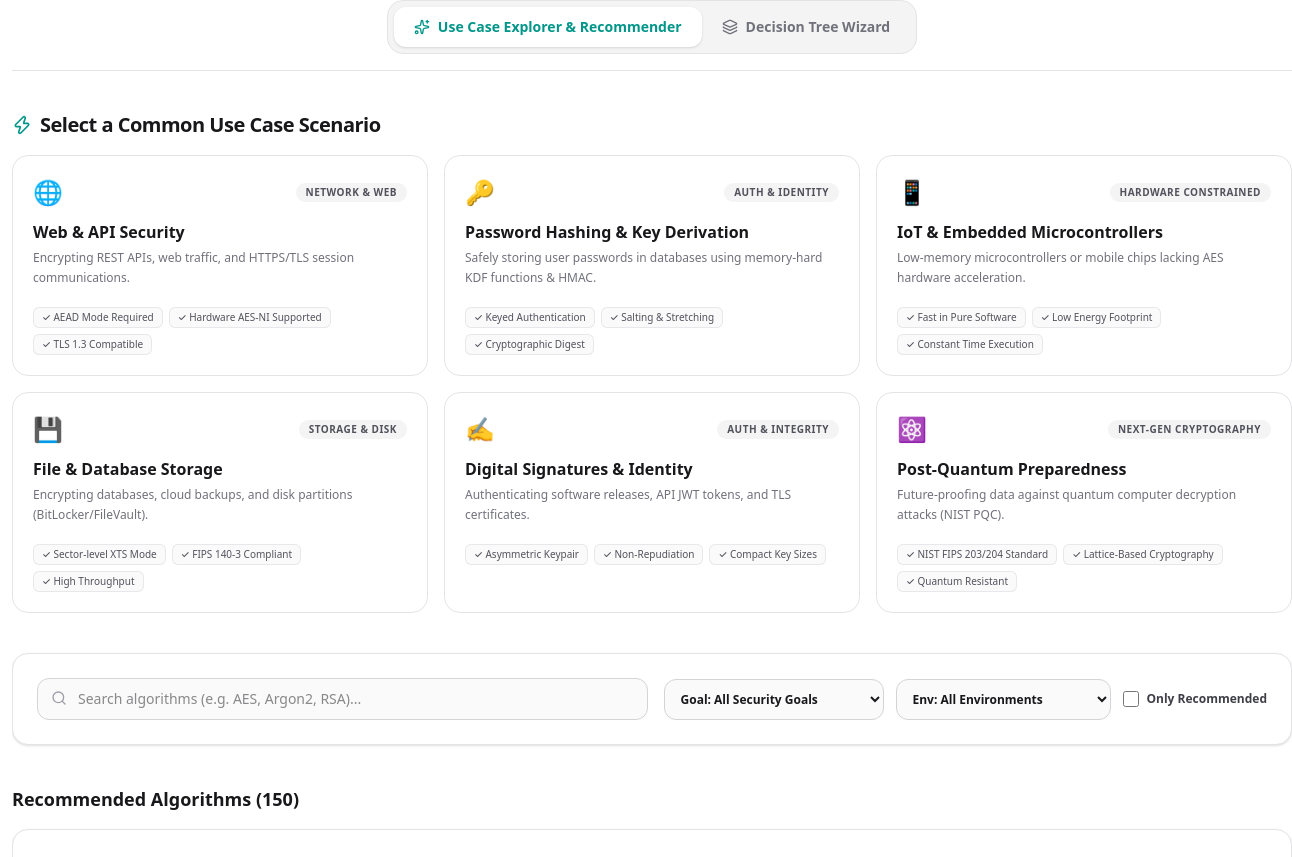
Scenario: CipherRecommendationAssistant Component Unit Tests › switches between Use Case Explorer and Decision Tree Wizard tabs
Click the button "Decision Tree Wizard" at (806, 27), box [702, 7, 910, 47]
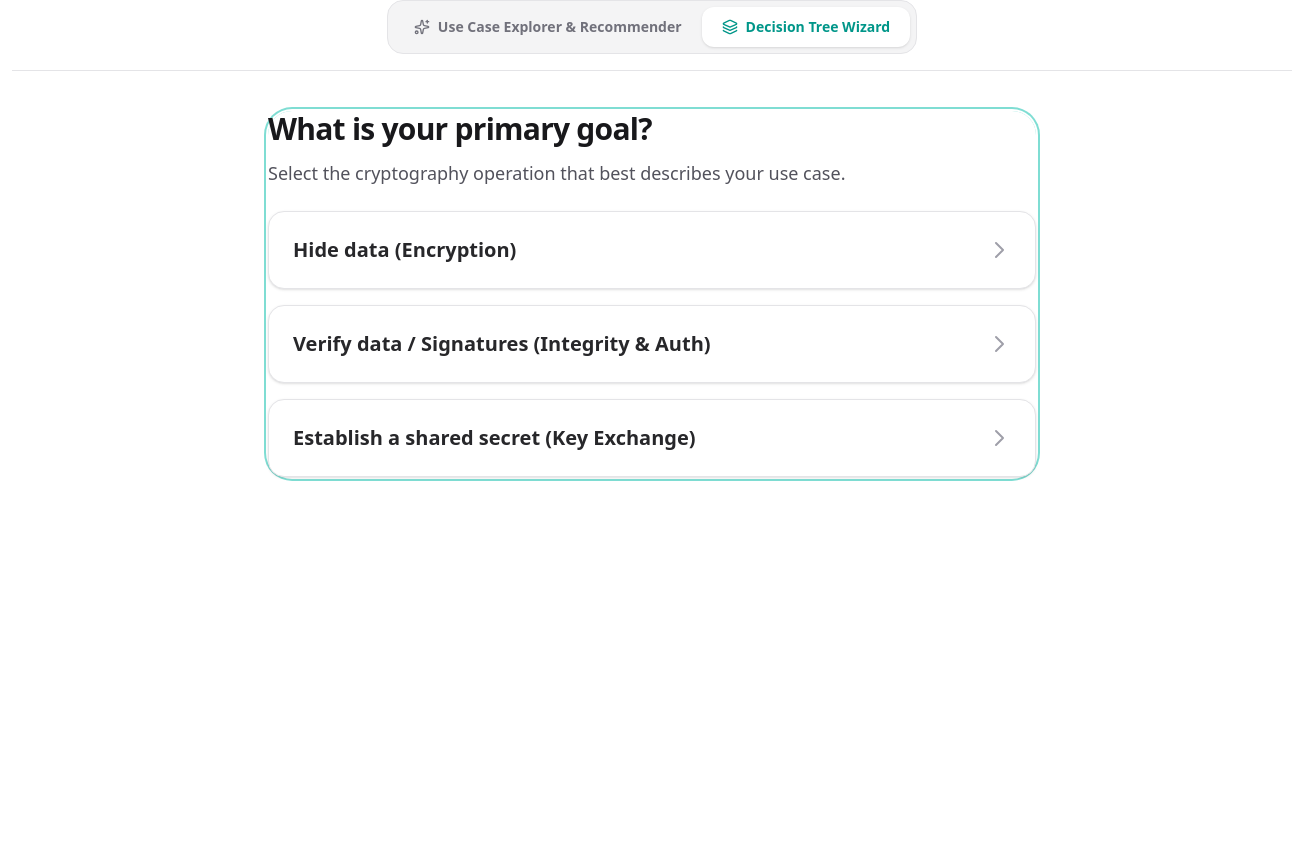
Check: the heading "What is your primary goal?" is shown, box [268, 108, 652, 149]
Click the button "Use Case Explorer & Recommender" at (548, 27), box [394, 7, 702, 47]
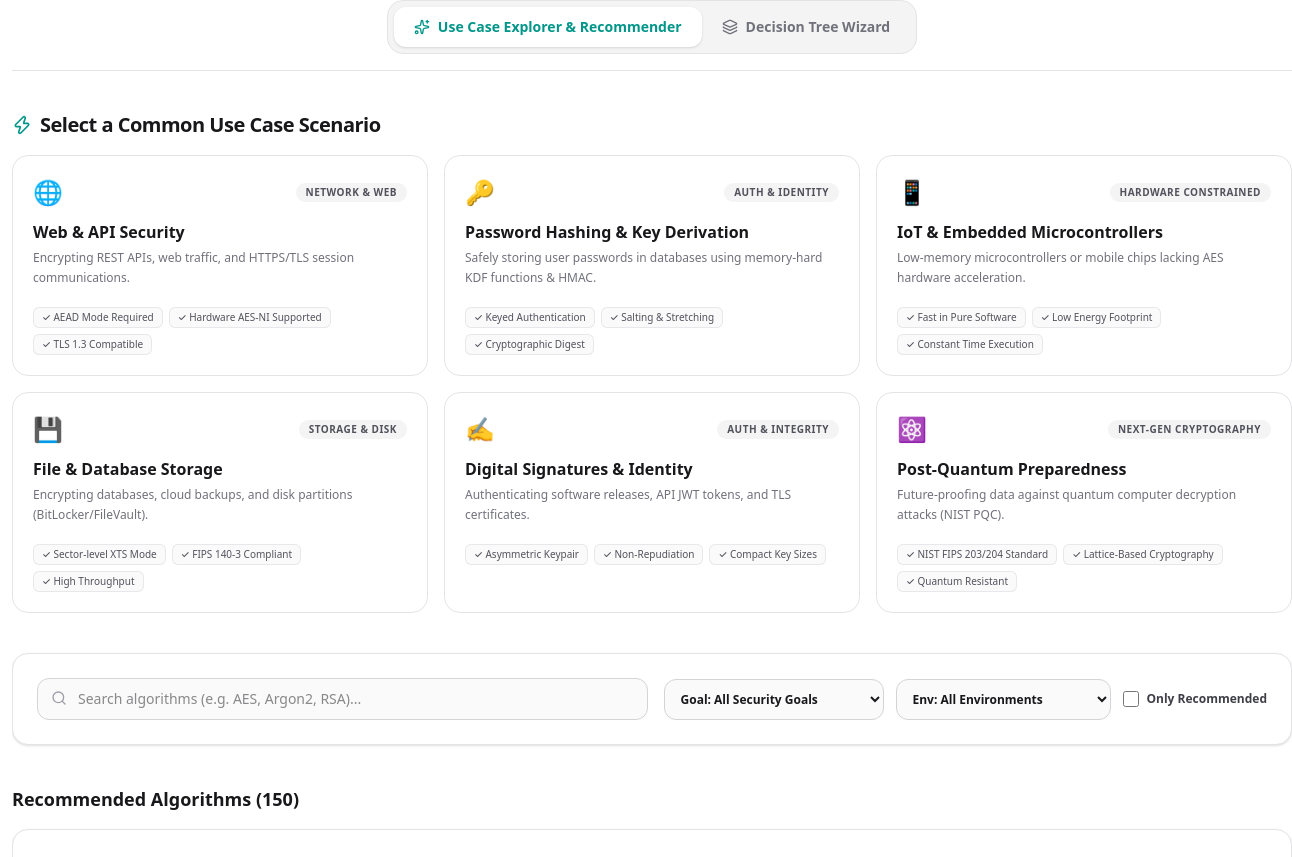
Check: the heading "Select a Common Use Case Scenario" is shown, box [12, 111, 381, 139]
